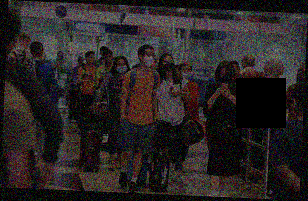with_mask: (142, 51, 156, 68), (162, 58, 175, 73), (116, 61, 129, 75), (218, 71, 232, 84), (180, 67, 192, 80), (56, 52, 63, 61)
without_mask: (103, 53, 113, 64), (87, 54, 95, 65), (280, 61, 285, 76), (150, 58, 156, 69), (174, 67, 181, 76)
